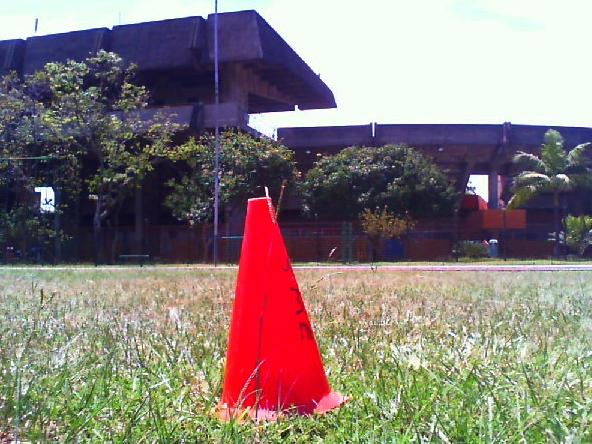0 cone: (210, 197, 351, 427)
